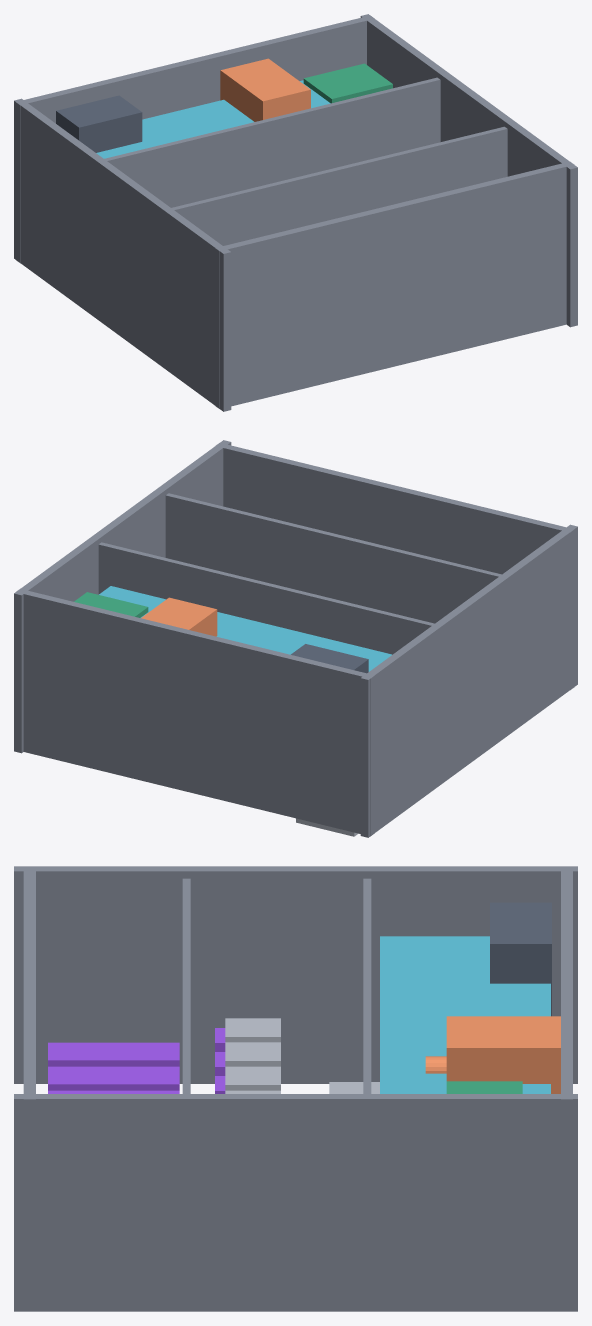
Rendered from b01-semantic.glb.
3 views of the same model, one above another, from view 1: azimuth 30°, elevation 25°; view 2: azimuth 150°, elevation 25°; view 3: azimuth 270°, elevation 25° (orthographic). The views are drawn at different scales.
Parts seen in each view (by area): view 1: Frame rail (×4), Lower divider, Upper divider, HotWaterTank, Chiller bank, Compressor, MainControl_pending; view 2: Frame rail (×4), Upper divider, Lower divider, Chiller bank, HotWaterTank, Compressor, MainControl_pending; view 3: Frame rail (×4), Chiller bank, HotWaterTank, Compressor, TeaStore_01, TeaStore_02, Upper divider, Lower divider, Transfer_01, Transfer_02, Transfer_03, MainControl_pending.
Part boxes in pixels (<box>): Frame rail (×4): <box>14,14,577,411</box>; Lower divider: <box>104,77,440,207</box>; Upper divider: <box>171,126,507,245</box>; HotWaterTank: <box>220,58,310,121</box>; Chiller bank: <box>96,80,330,158</box>; Compressor: <box>56,95,142,152</box>; MainControl_pending: <box>303,63,392,103</box>; Frame rail (×4): <box>14,440,577,837</box>; Upper divider: <box>165,493,501,623</box>; Lower divider: <box>98,542,434,654</box>; Chiller bank: <box>99,586,391,671</box>; HotWaterTank: <box>141,597,217,636</box>; Compressor: <box>291,644,368,673</box>; MainControl_pending: <box>74,592,148,617</box>; Frame rail (×4): <box>14,866,577,1311</box>; Chiller bank: <box>380,936,550,1093</box>; HotWaterTank: <box>446,1016,560,1093</box>; Compressor: <box>490,902,551,1016</box>; TeaStore_01: <box>48,1042,179,1066</box>; TeaStore_02: <box>48,1066,179,1090</box>; Upper divider: <box>182,878,190,1093</box>; Lower divider: <box>363,878,371,1093</box>; Transfer_01: <box>225,1018,280,1042</box>; Transfer_02: <box>225,1042,280,1066</box>; Transfer_03: <box>225,1066,280,1090</box>; MainControl_pending: <box>446,1081,522,1093</box>.
Bounding box in the file's own units: 1740 × 790 × 1780.
